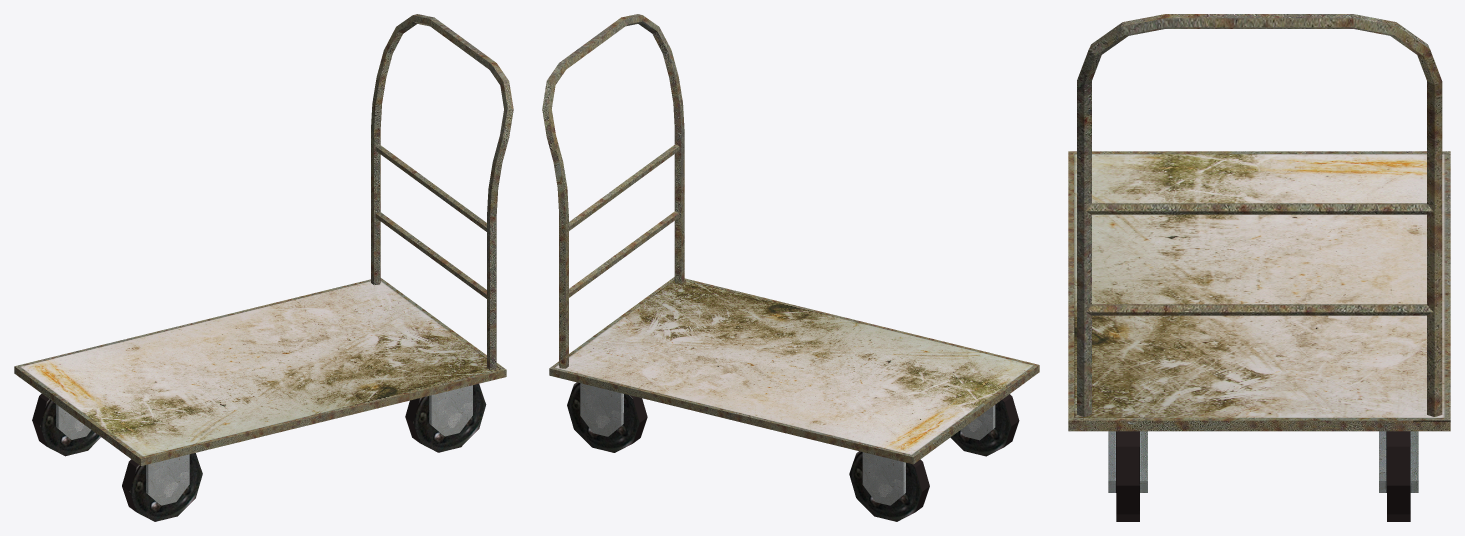
Rendered from kofferkulli2.fbx.
The picture shows the model from 3 angles, left to right: view 1: azimuth 30°, elevation 25°; view 2: azimuth 150°, elevation 25°; view 3: azimuth 270°, elevation 25°; orthographic projection. The views are drawn at different scales.
Visible parts, largest first — view 1: kofferkulli2_Layer1; view 2: kofferkulli2_Layer1; view 3: kofferkulli2_Layer1.
Boxes of the visible parts, bbox=[...] form: kofferkulli2_Layer1: bbox=[14, 14, 513, 521]; kofferkulli2_Layer1: bbox=[542, 14, 1039, 521]; kofferkulli2_Layer1: bbox=[1068, 14, 1450, 521].
Bounding box in the file's own units: 170 × 150 × 96.
Materials: 1 (1 with a texture image).
